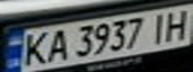3: (72, 22, 96, 58), (109, 17, 130, 52)
7: (124, 14, 151, 48)
9: (90, 20, 112, 56)
A: (42, 26, 72, 63)
H: (160, 7, 193, 42)
I: (145, 10, 172, 44)
K: (18, 29, 51, 68)
